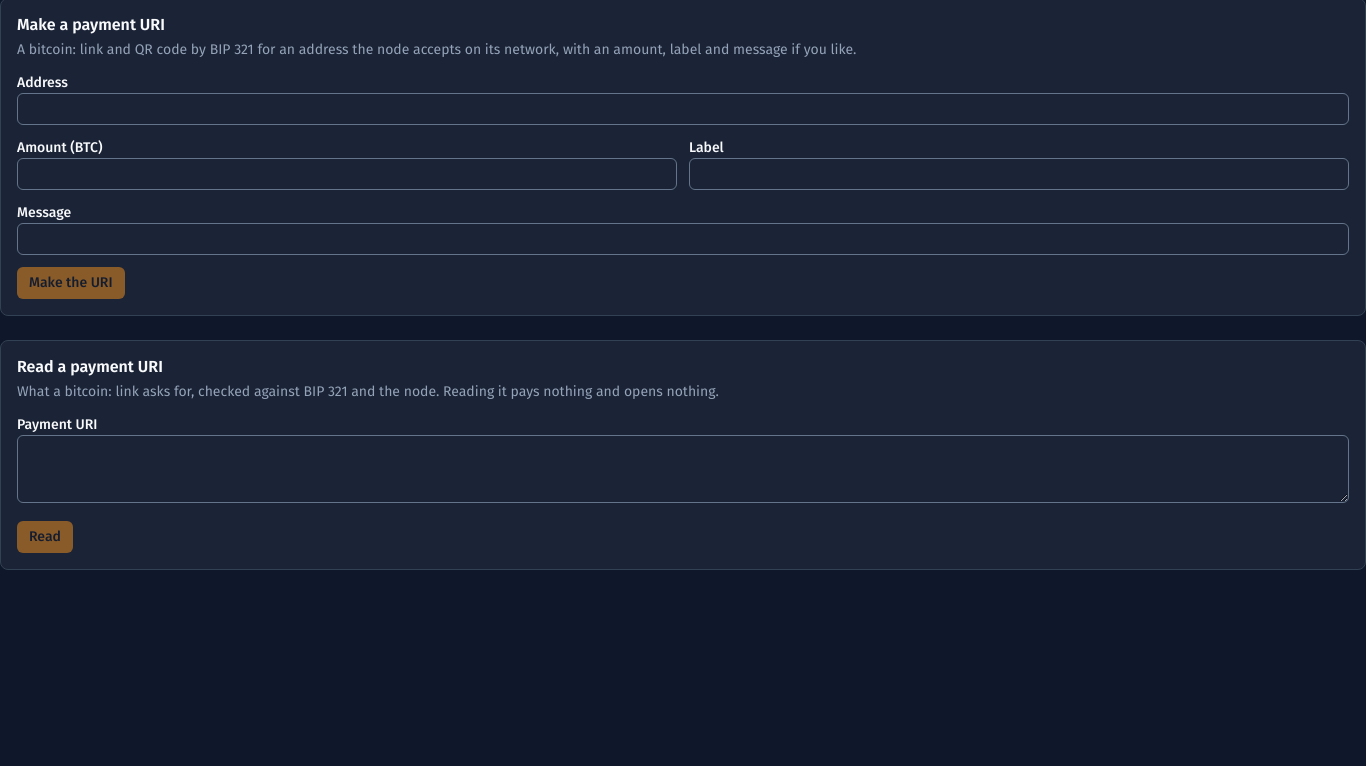
payment URIs › reads a URI and explains every part, paying and opening nothing
In the text box labelled "Payment URI": (683, 469) [17, 435, 1349, 503], type "bitcoin:?sp=sp1example&req-somethingnew=1"
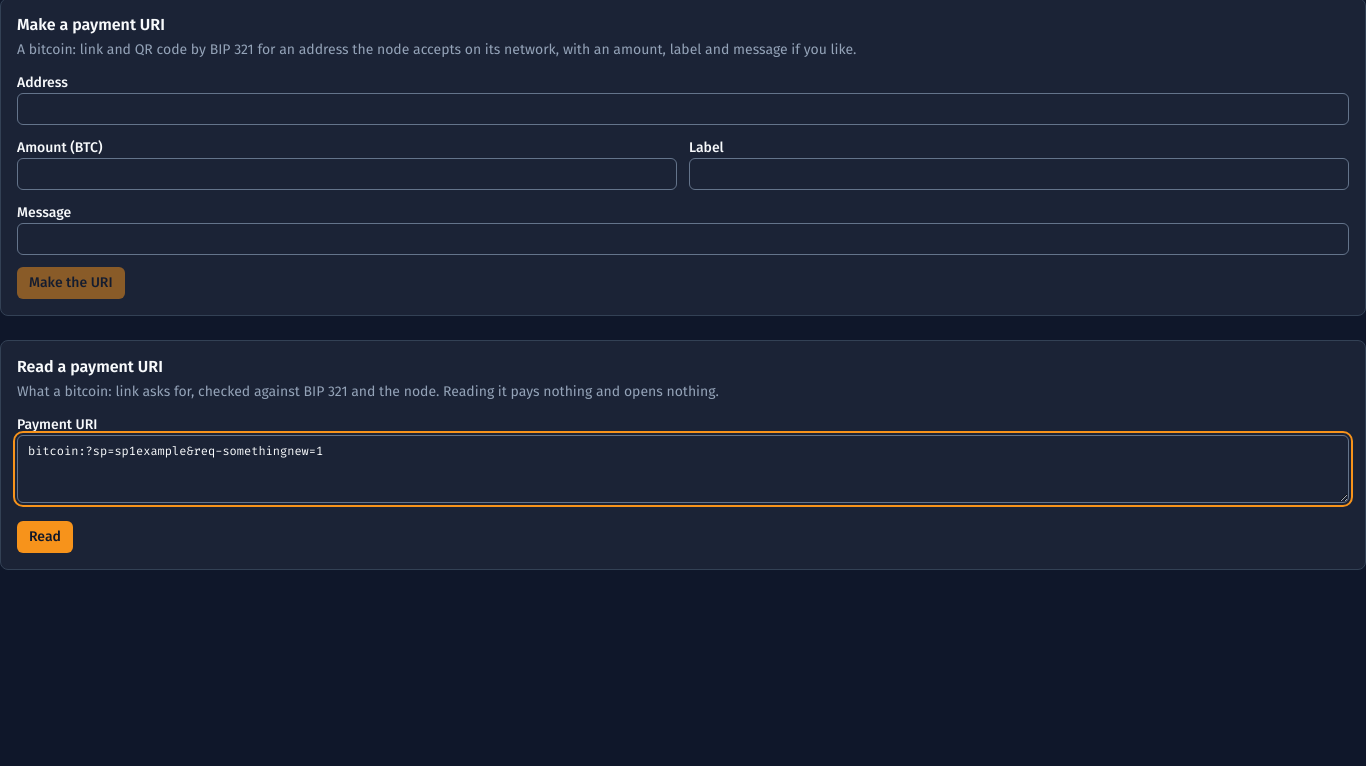
Click the button "Read": (45, 537) [17, 521, 73, 553]
(page scrolled)
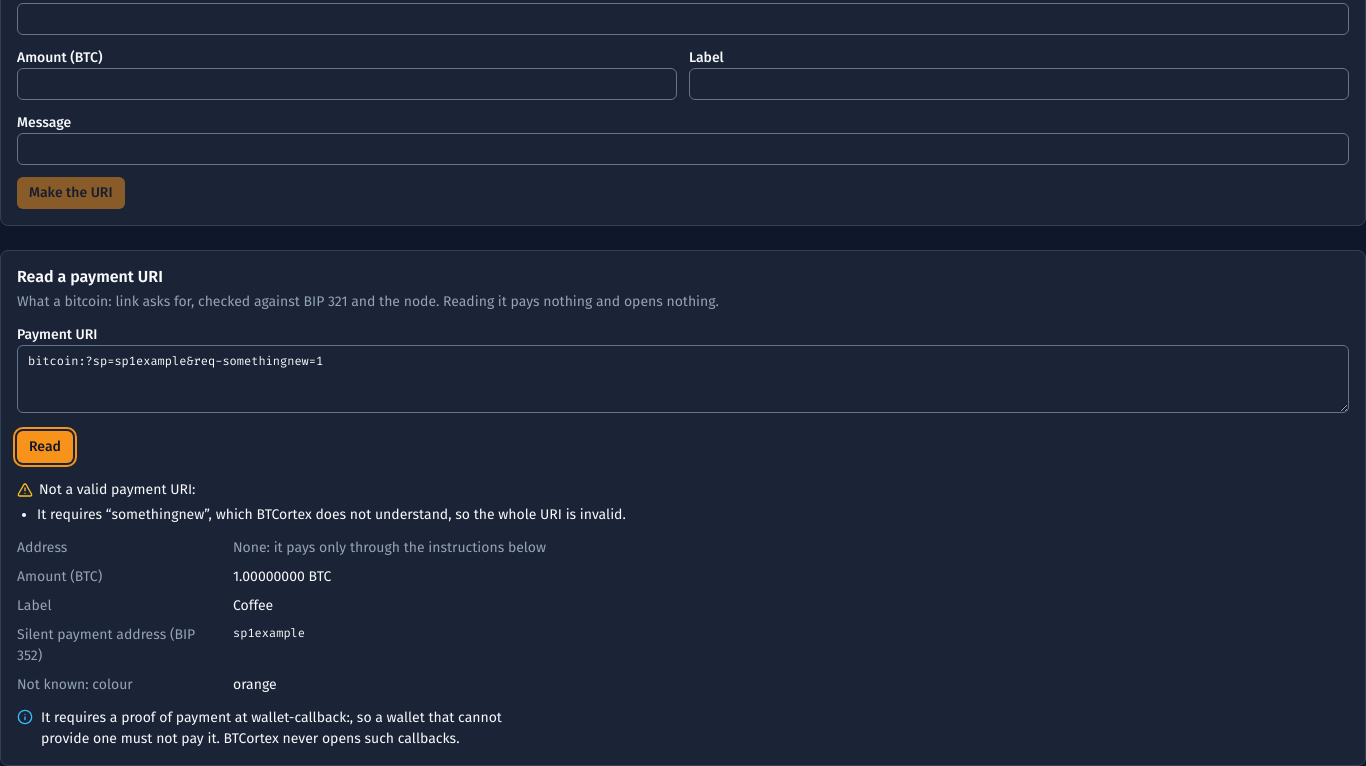
Now the text "Not a valid payment URI:" is shown, box [39, 479, 195, 500]
Now the list item "requires “somethingnew”" is shown, box [37, 506, 626, 523]
Now the text "Silent payment address (BIP 352)" is shown, box [17, 624, 209, 666]
